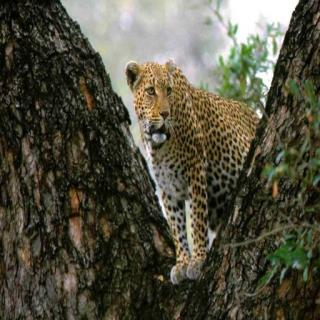Leopard: (102, 39, 286, 270)
